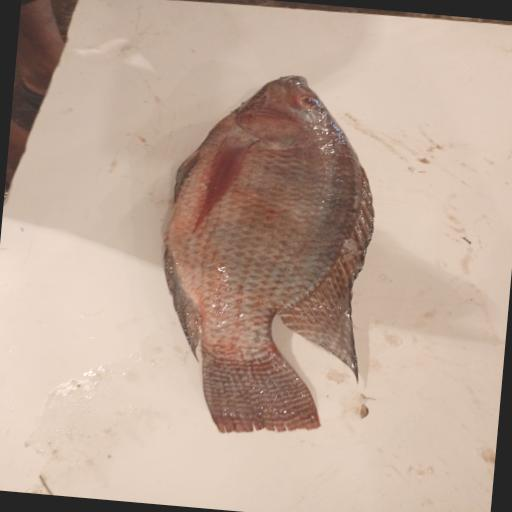Tilapia: (146, 65, 387, 445)
